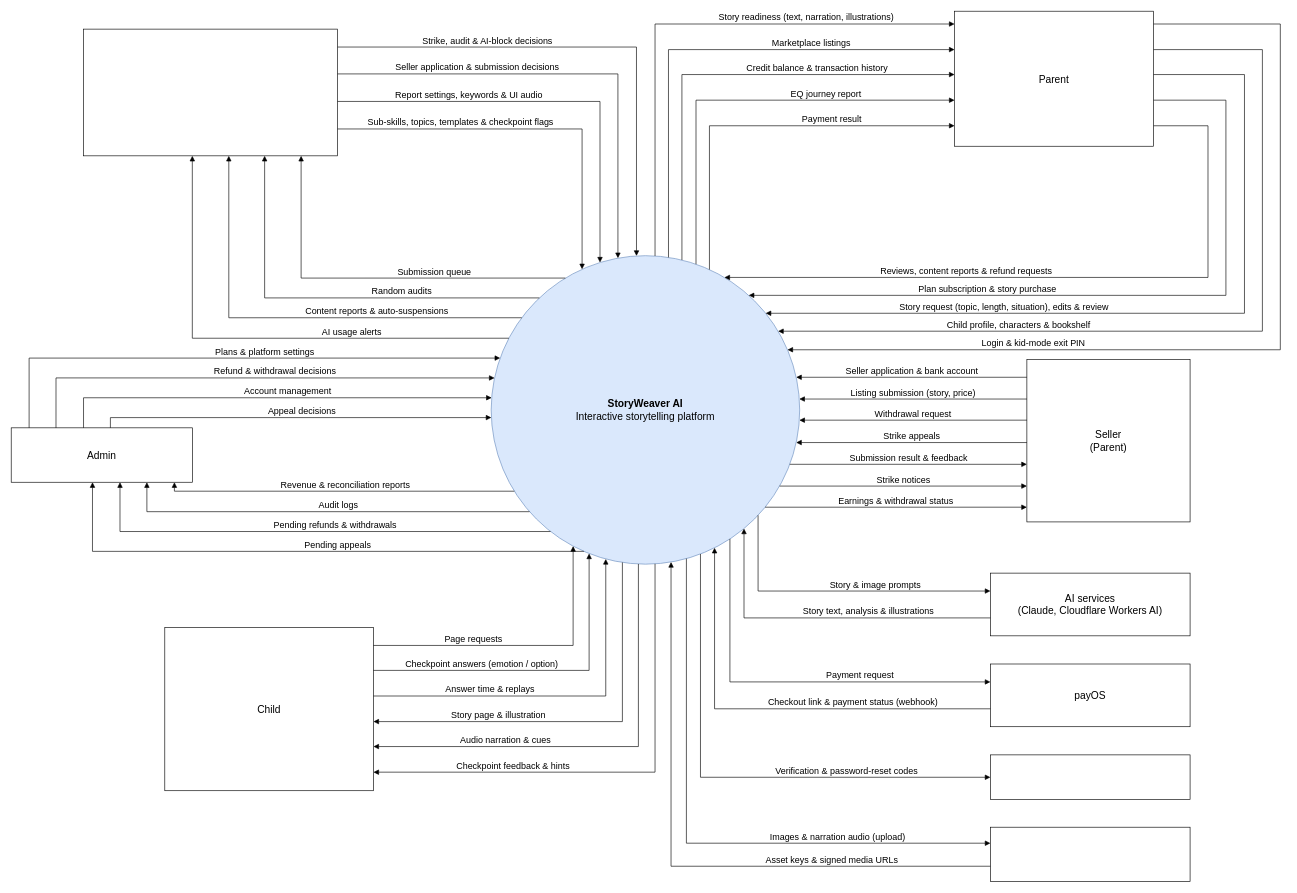
This 1297x893 diagram has some shape labels left out. Here are the shapes that lost their labels. From the top down, the centre of each, then its label:
point (210, 92): Specialist
point (1090, 777): Email service (Brevo)
point (1090, 854): Cloudinary (media storage)
